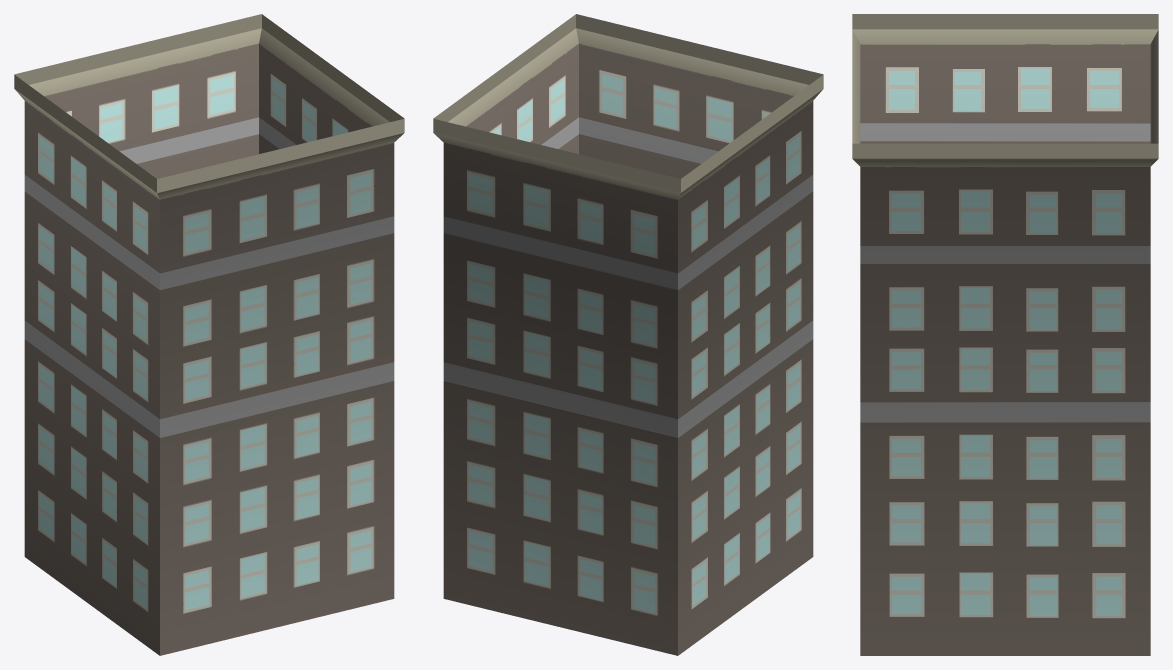
Rendered from building2.FBX.
3 views of the same model, side by side, from view 1: azimuth 30°, elevation 25°; view 2: azimuth 150°, elevation 25°; view 3: azimuth 270°, elevation 25° (orthographic). The views are drawn at different scales.
Visible parts, largest first — view 1: Box003; view 2: Box003; view 3: Box003.
Part boxes in pixels (left/top/right/bottom): Box003: left=14, top=14, right=404, bottom=655; Box003: left=433, top=14, right=823, bottom=655; Box003: left=852, top=14, right=1158, bottom=655.
Bounding box in the file's own units: 1057 × 1963 × 1057.
Materials: 1 (1 with a texture image).
